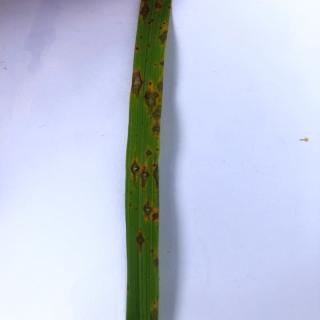Blast: (128, 152, 142, 187), (130, 68, 146, 98), (141, 88, 156, 117), (134, 227, 147, 253), (138, 164, 152, 188), (141, 197, 152, 220), (156, 28, 168, 48), (140, 0, 150, 23), (152, 101, 163, 121), (142, 146, 156, 159), (151, 121, 160, 138), (149, 209, 159, 224), (156, 79, 164, 95), (155, 0, 164, 14), (149, 246, 156, 255), (135, 44, 142, 52), (161, 20, 168, 27), (166, 4, 172, 11)
